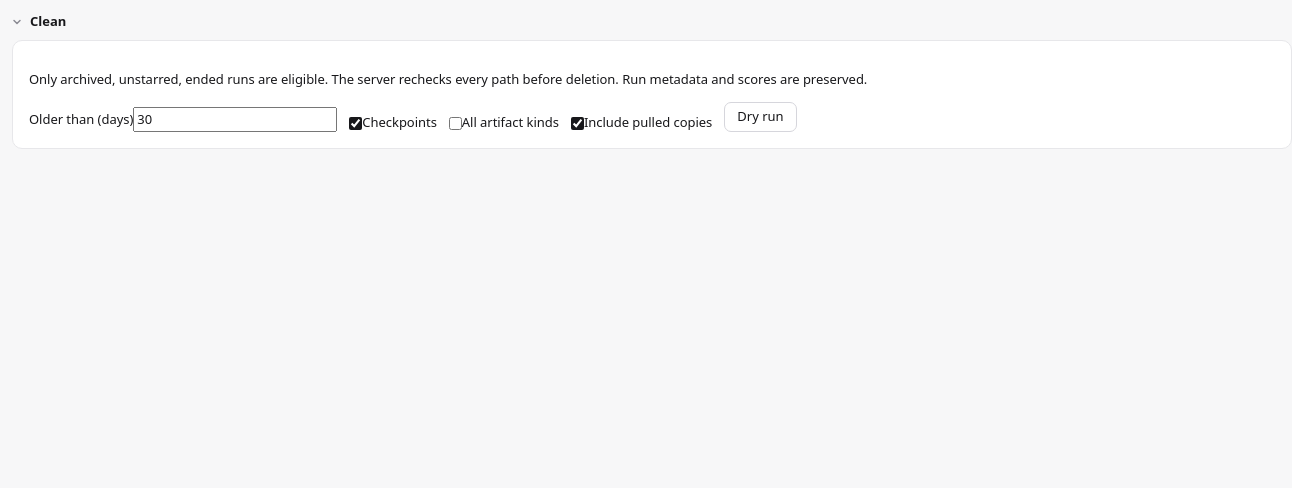
Test: network retries reuse exact command id and snapshot
Step 1. Click the button "Dry run" → (760, 117), box top-left (724, 102), bottom-right (797, 132)
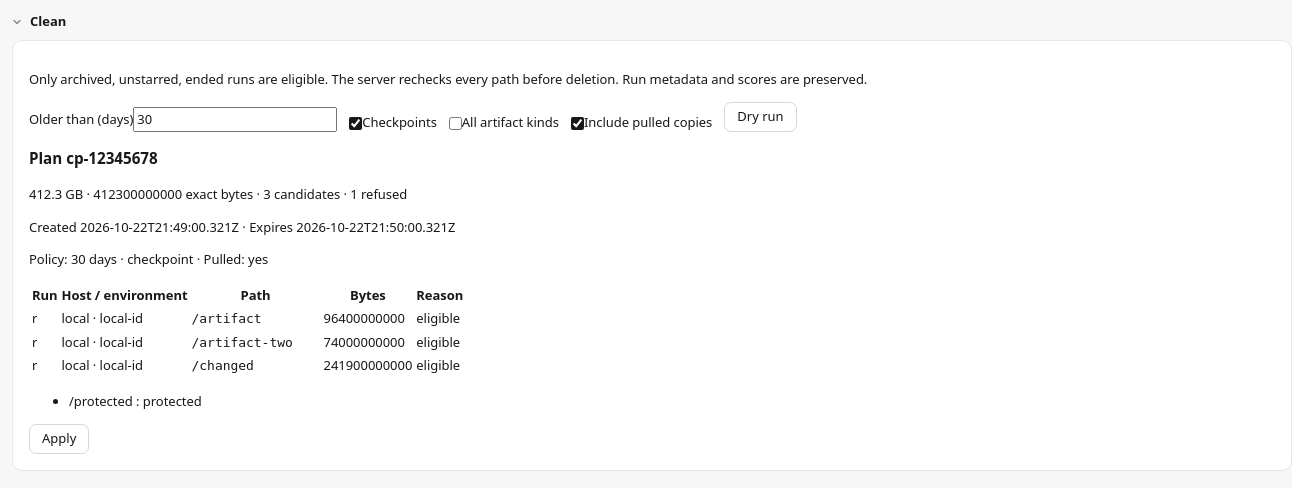
Check: the heading "Plan cp-12345678" is shown, box top-left (29, 148), bottom-right (158, 168)
